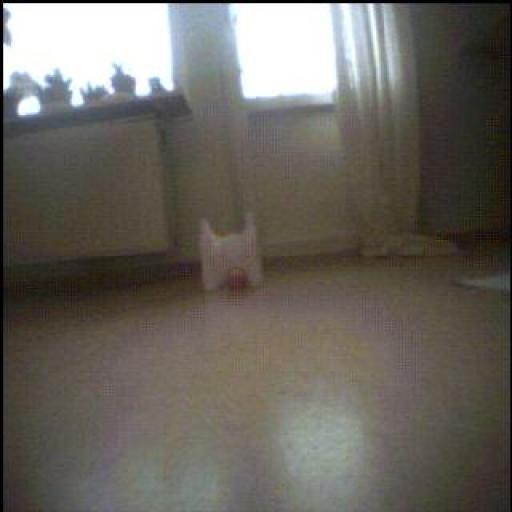Basket: (222, 263, 250, 294)
